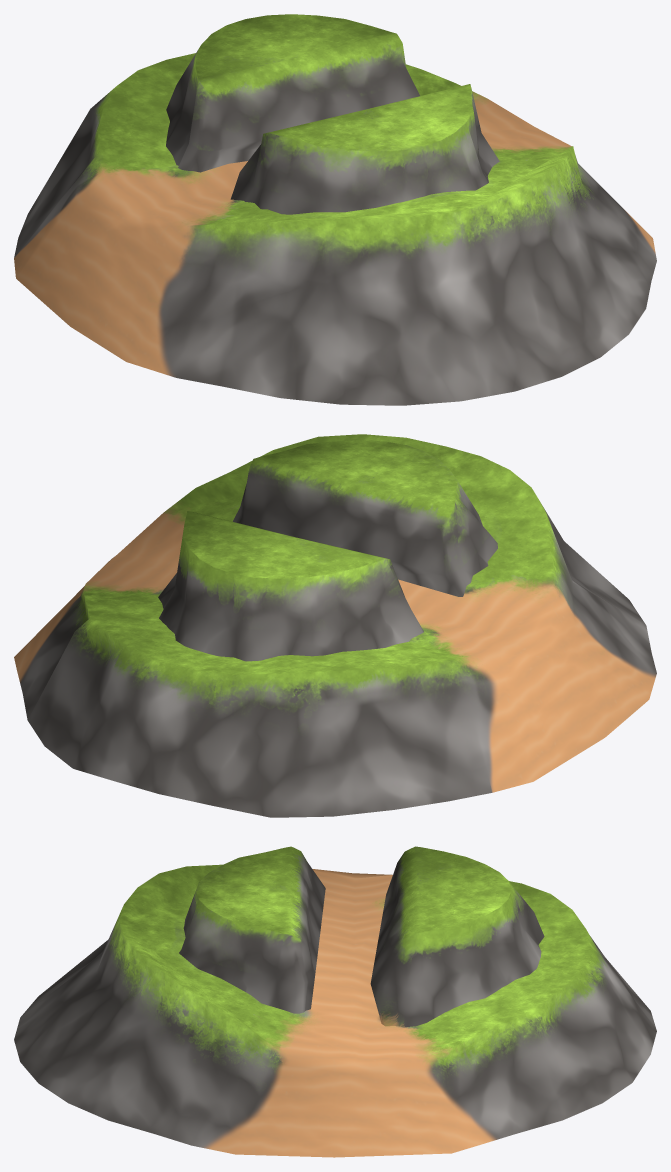
The model's file is low_poly_island_1.glb.
3 renders of one model, top to bottom at view 1: azimuth 30°, elevation 25°; view 2: azimuth 150°, elevation 25°; view 3: azimuth 270°, elevation 25°, orthographic. The views are drawn at different scales.
Visible parts, largest first — view 1: Island_1; view 2: Island_1; view 3: Island_1.
Part boxes in pixels (x1=…): Island_1: x1=14, y1=14, x2=656, y2=405; Island_1: x1=14, y1=434, x2=656, y2=817; Island_1: x1=14, y1=846, x2=656, y2=1157.
Size of the model in its own units: 1446 by 437 by 1669.
Materials: 1 (1 with a texture image).
